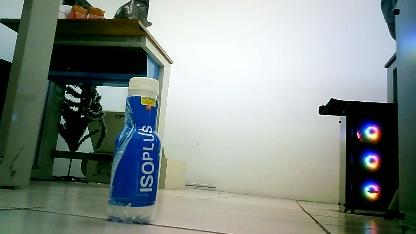Plastic Bottle: (107, 78, 162, 224)
